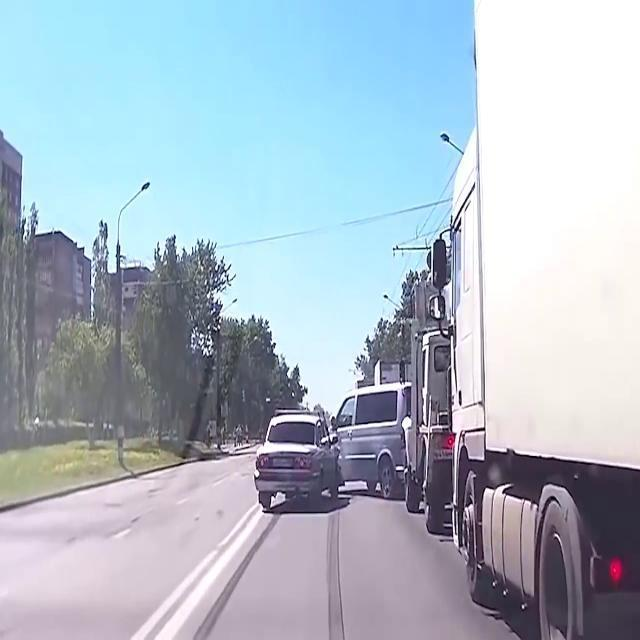accident: (254, 381, 411, 511)
non-accident: (342, 0, 640, 640)
